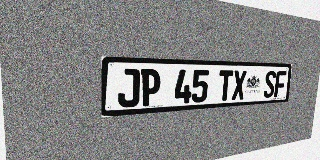4: (174, 69, 193, 104)
5: (191, 70, 209, 103)
F: (274, 71, 287, 97)
J: (118, 68, 140, 108)
P: (140, 69, 161, 106)
S: (263, 71, 276, 98)
T: (217, 70, 233, 101)
X: (231, 70, 247, 100)
